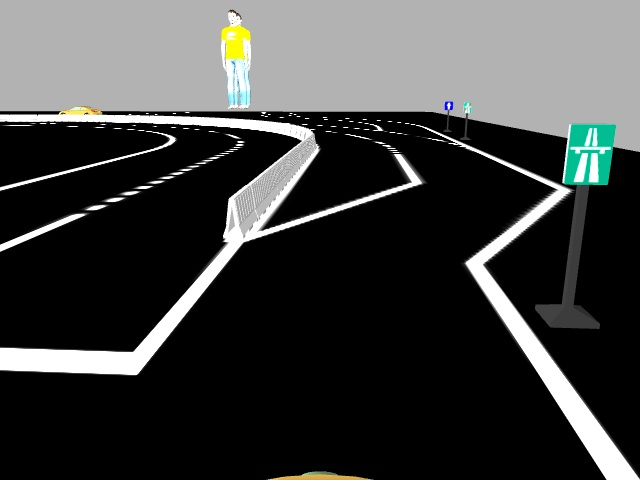HighwayEntrance: (564, 121, 610, 186)
